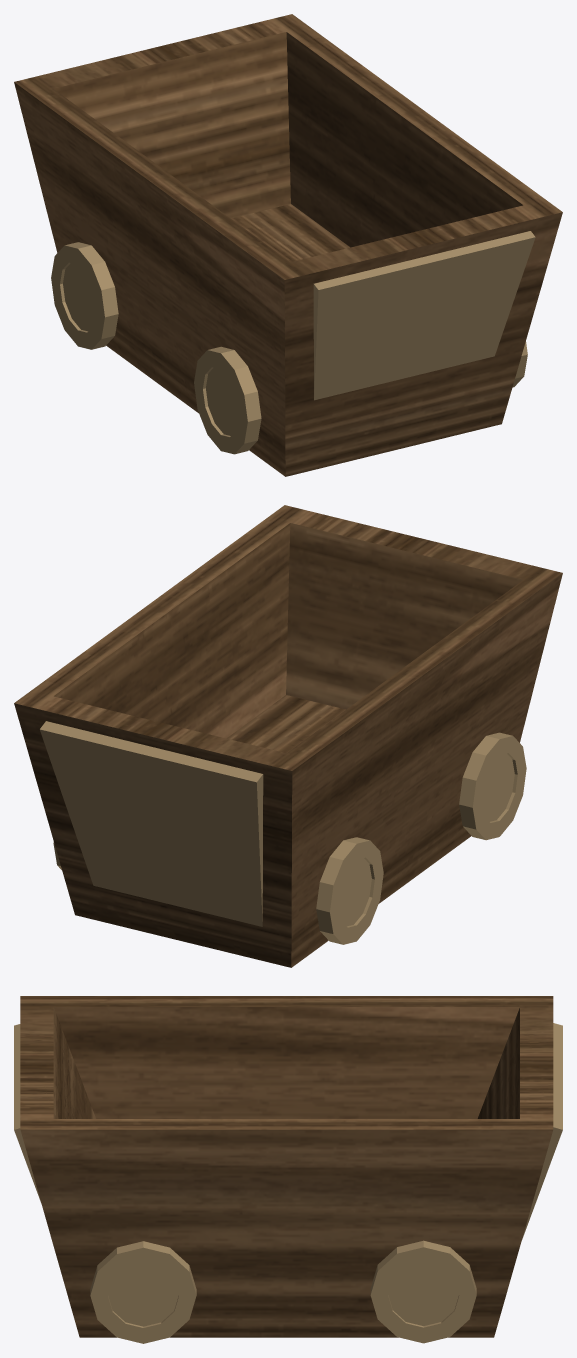
The model's file is Dolly.obj.
The picture shows the model from 3 angles, top to bottom: view 1: azimuth 30°, elevation 25°; view 2: azimuth 150°, elevation 25°; view 3: azimuth 270°, elevation 25°; orthographic projection.
Visible parts, largest first — view 1: minecart_Cube.011; view 2: minecart_Cube.011; view 3: minecart_Cube.011.
Boxes of the visible parts, left/top/right/bottom form: minecart_Cube.011: left=14, top=14, right=562, bottom=476; minecart_Cube.011: left=14, top=505, right=562, bottom=967; minecart_Cube.011: left=14, top=996, right=562, bottom=1343.
Bounding box in the file's own units: 5.47 × 4.25 × 9.48.
